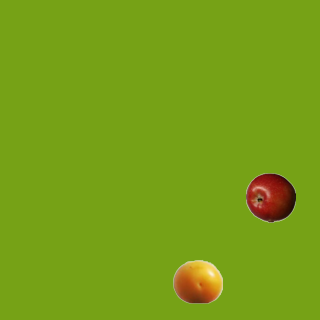Apple Braeburn: (245, 172, 295, 222)
Cherry Wax Yellow: (172, 256, 222, 306)
